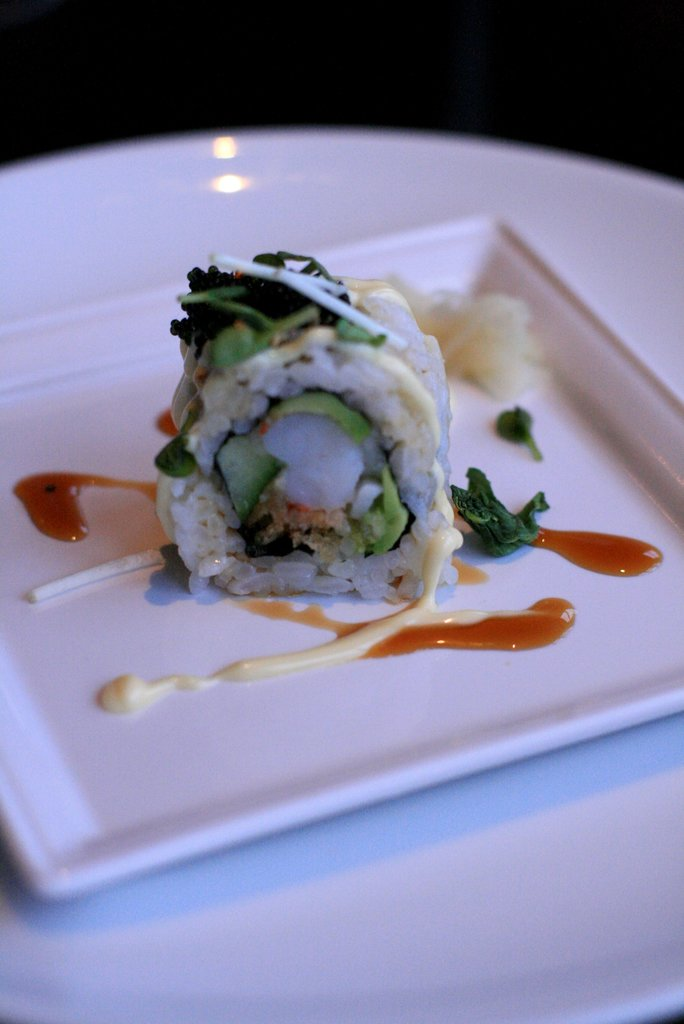sushi: (136, 282, 494, 641)
